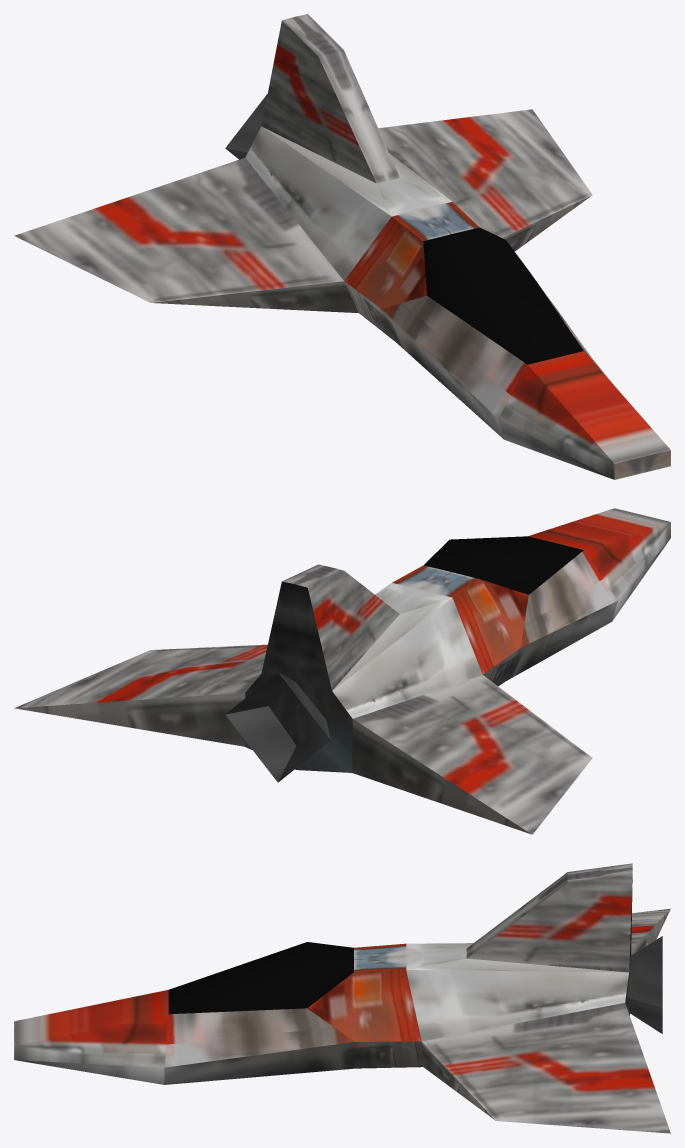
The model's file is Rocketship.fbx.
The picture shows the model from 3 angles, top to bottom: view 1: azimuth 30°, elevation 25°; view 2: azimuth 150°, elevation 25°; view 3: azimuth 270°, elevation 25°; orthographic projection. The views are drawn at different scales.
Parts seen in each view (by area): view 1: polySurface1; view 2: polySurface1; view 3: polySurface1.
Boxes of the visible parts, bbox=[...] form: polySurface1: bbox=[14, 14, 670, 479]; polySurface1: bbox=[14, 508, 670, 834]; polySurface1: bbox=[14, 863, 670, 1133].
Size of the model in its own units: 2.54 by 1.01 by 3.13.
